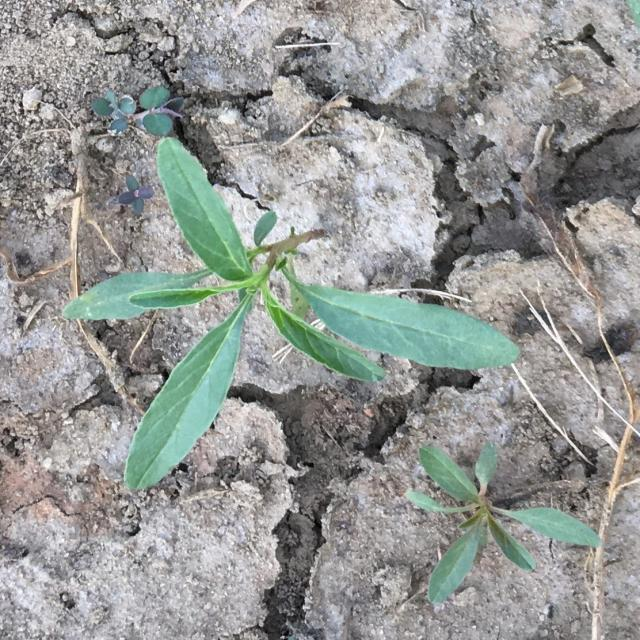Waterhemp: (61, 136, 519, 491), (405, 440, 603, 606)
